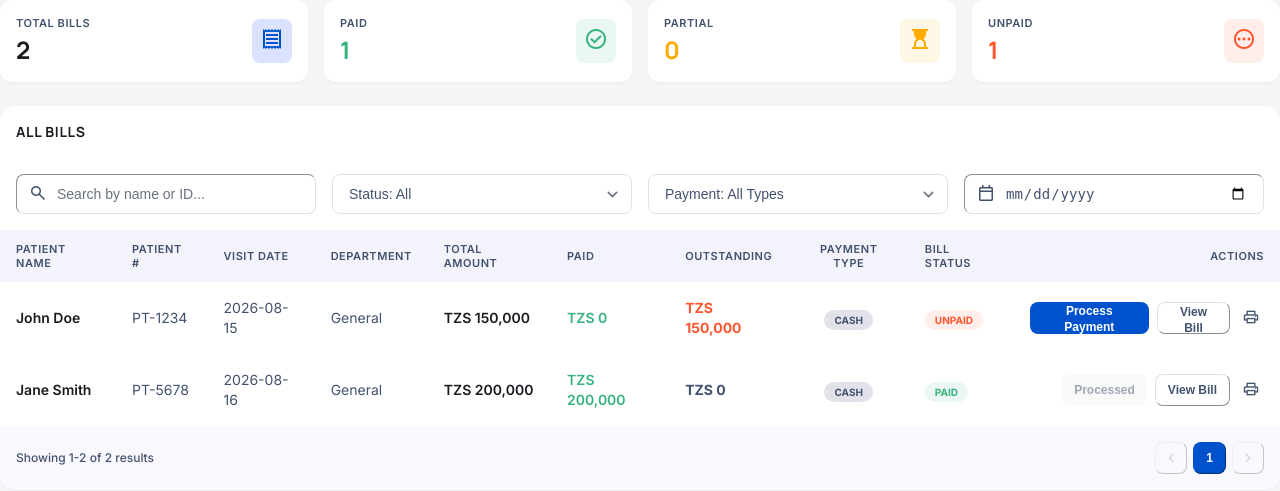
Test case: BillsPage › filters payment bills by search query
Check: the text "John Doe" is shown, box [0, 282, 116, 354]
Type "Jane" into the field with placeholder "Search by name or ID...".
click(166, 194); type("Jane")  # box [16, 174, 316, 214]
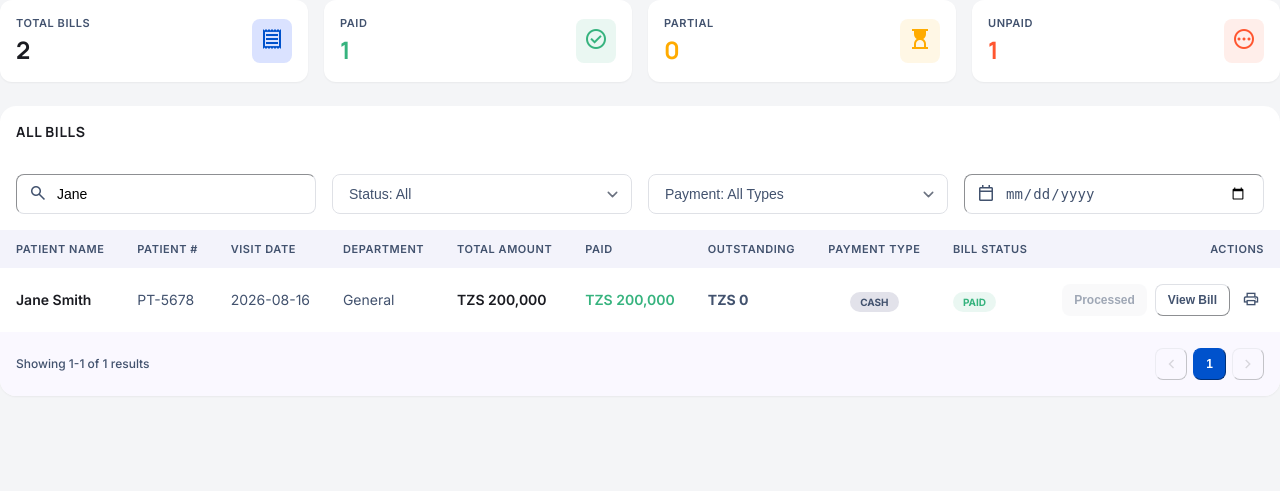
Check: the text "Jane Smith" is shown, box [0, 268, 121, 332]
Check: the text "John Doe" is gone
